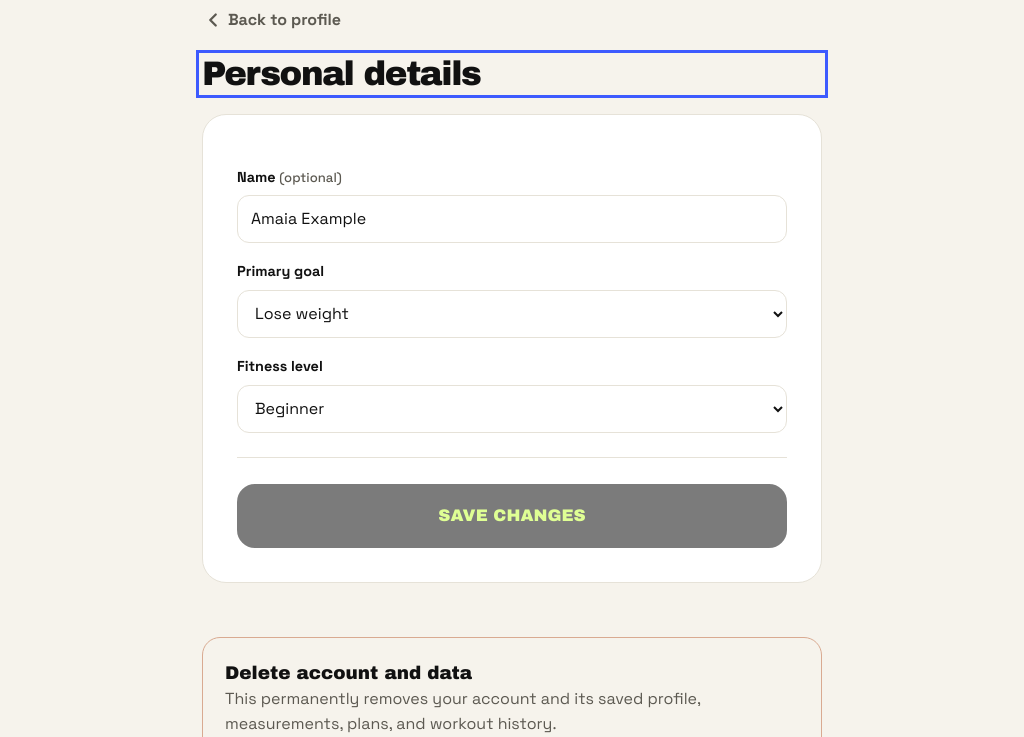
Test: profile redesign › keeps personal edits and reports a translated-safe failure when saving is rejected
Replace the text in the field labelled "Name (optional)" with "Unsaved name" at (512, 219), box [237, 195, 787, 243]
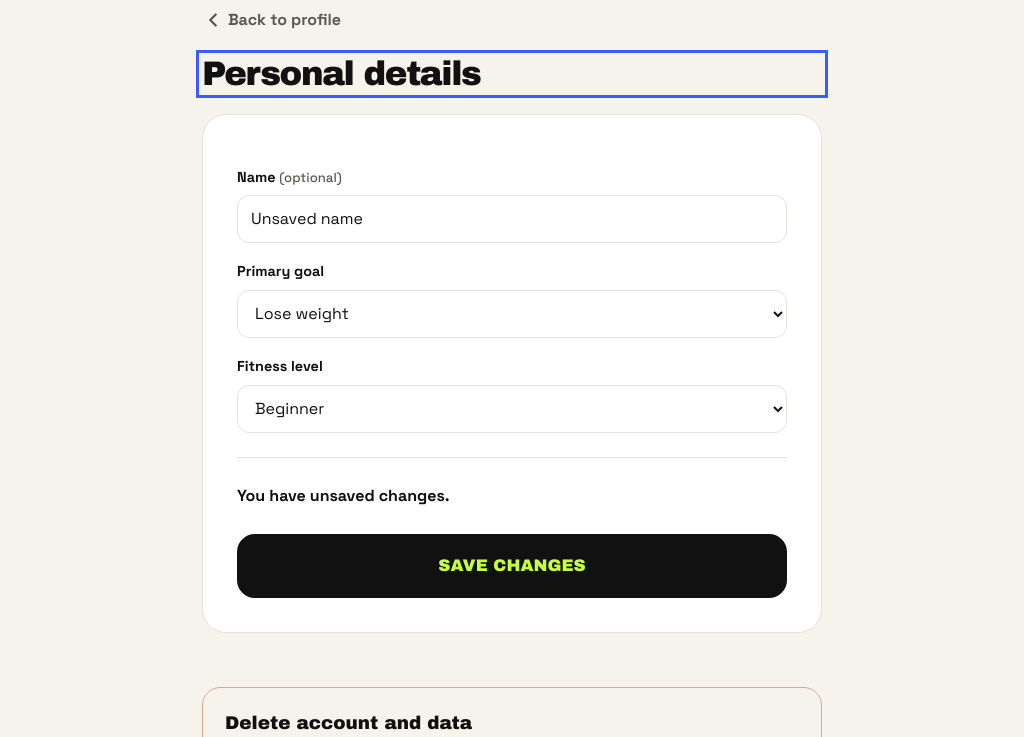
Click the link "Back to profile" at (272, 20), box [202, 9, 341, 31]
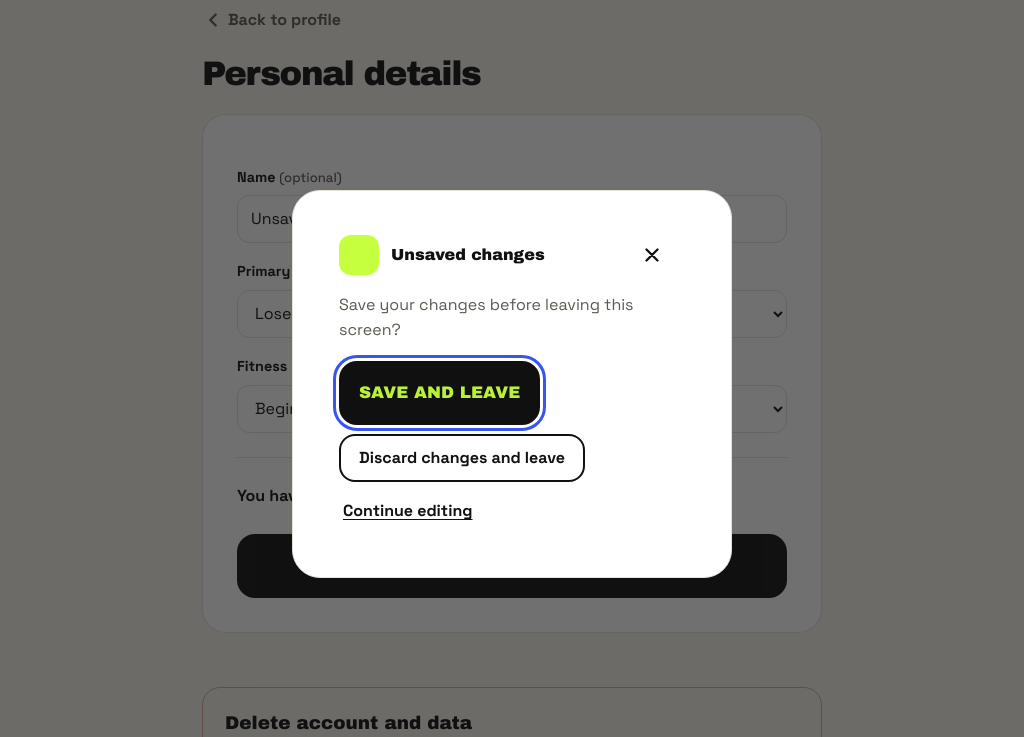
Click the button "Save and leave" at (440, 393), box [339, 361, 540, 425]
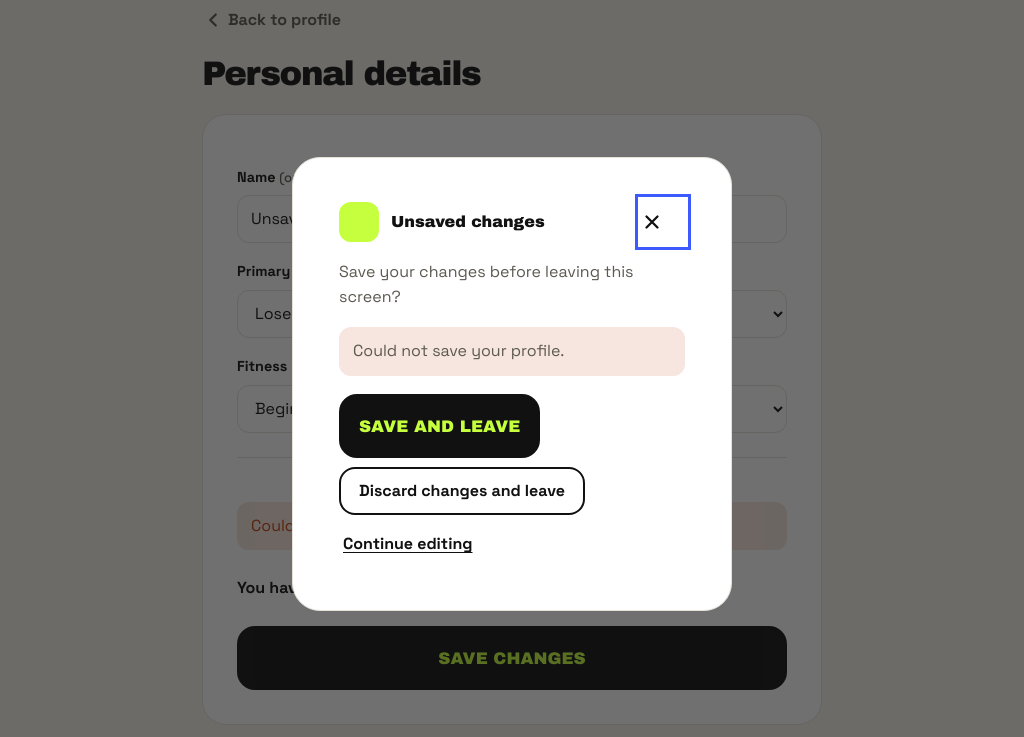
Expected: the text "Could not save your profile." is shown 2 times, [237, 502, 787, 550]; [339, 327, 685, 376]
